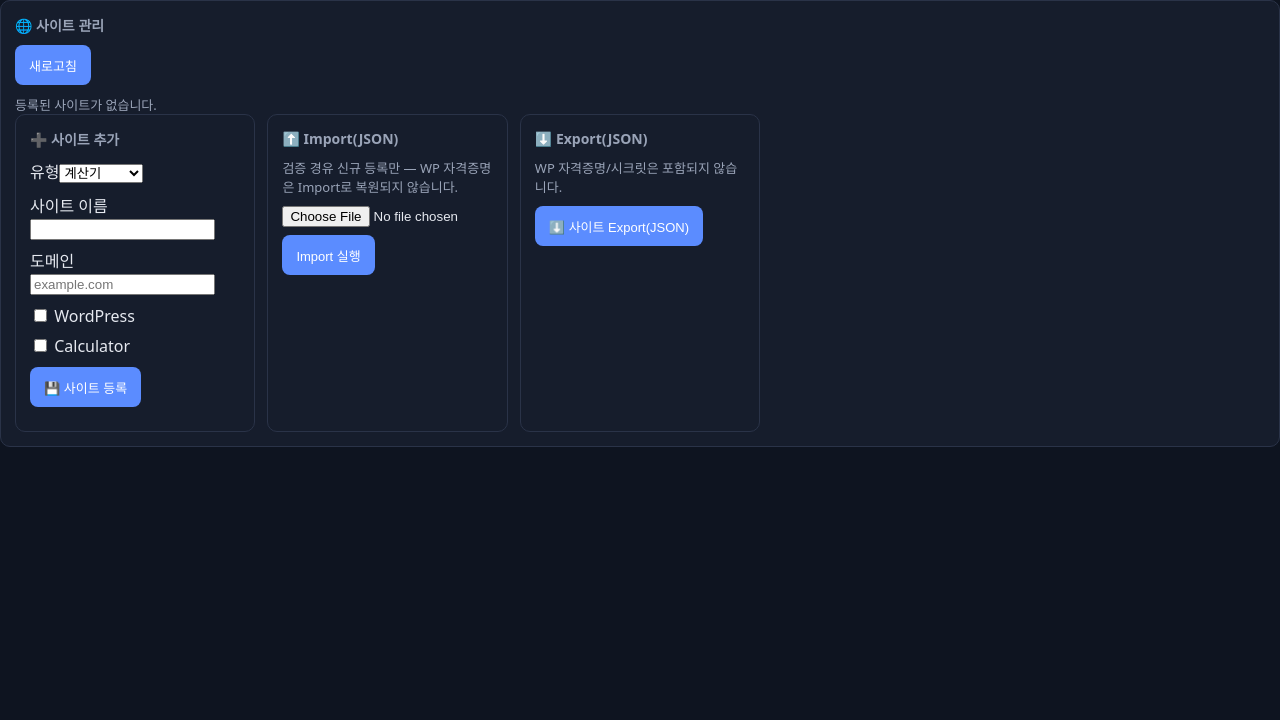
Scenario: Site Create form (STEP P2-06) › never displays the entered WordPress password back to the user after submit
Click the checkbox labelled "WordPress" at {"x": 40, "y": 316}, box [34,309,47,322]
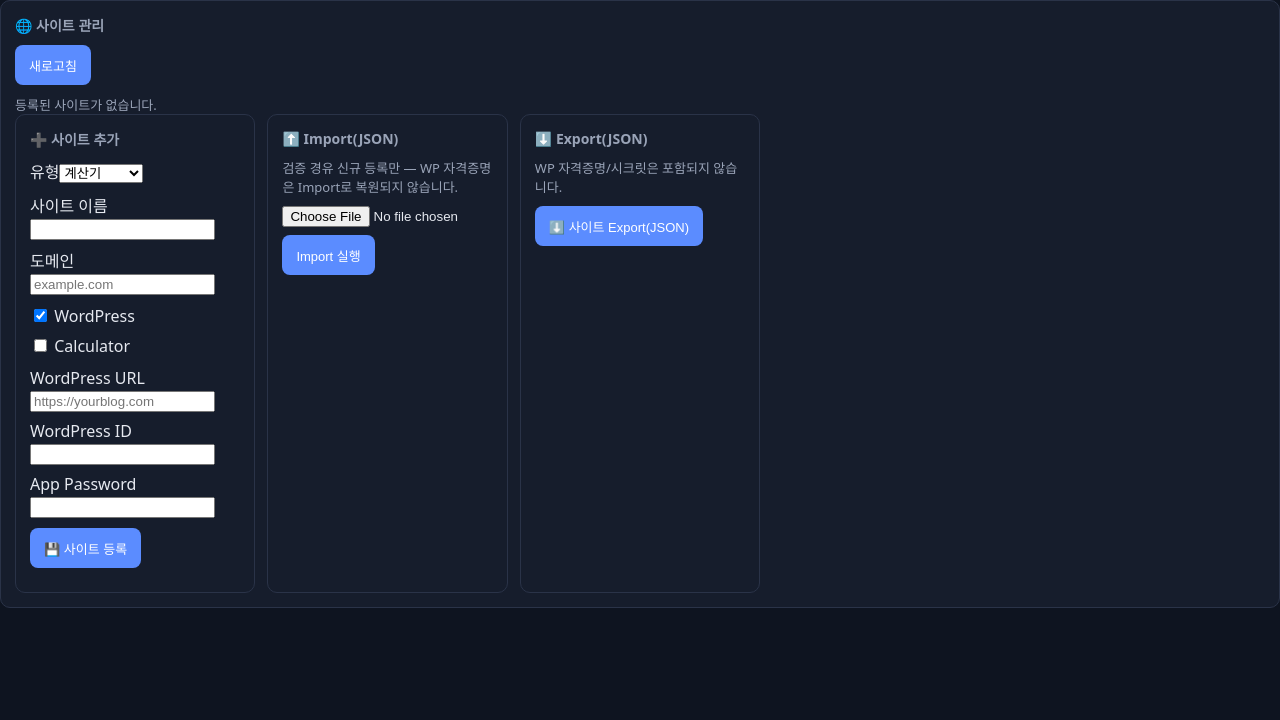
Type "wp사이트" into the field labelled "사이트 이름" at {"x": 122, "y": 230}, box [30,219,215,240]
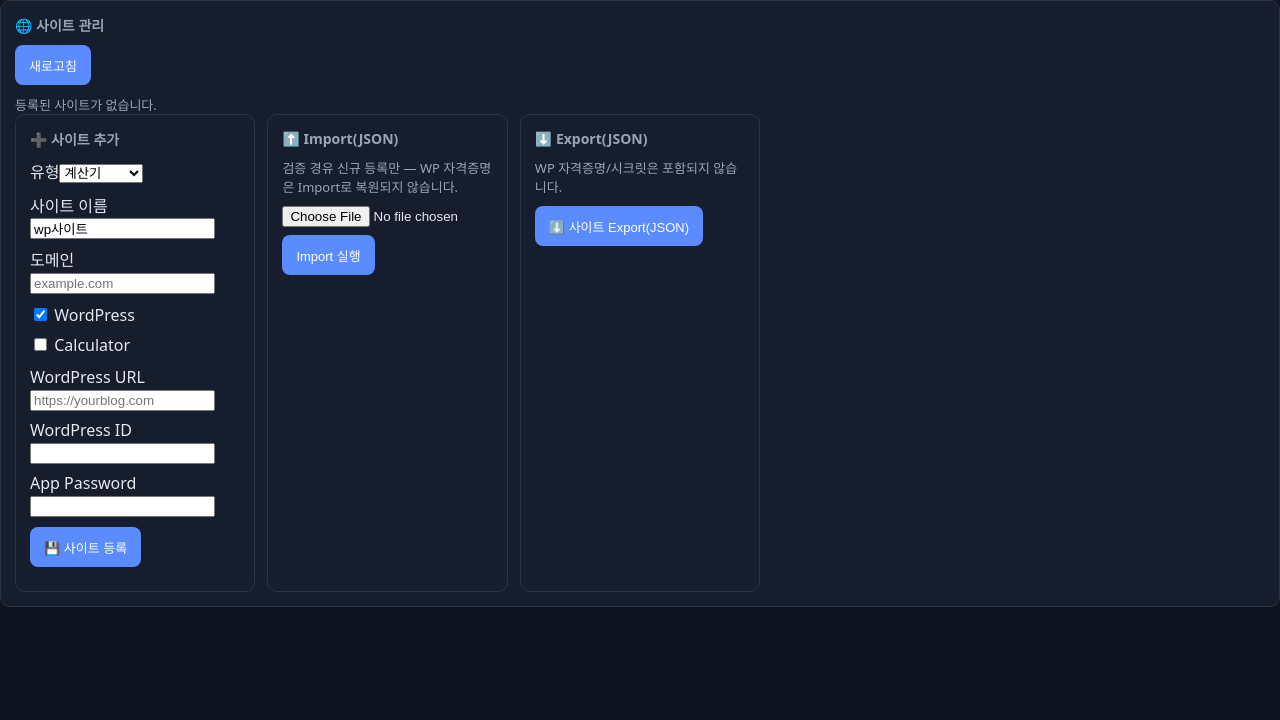
Type "wp.example.com" into the field labelled "도메인" at {"x": 122, "y": 284}, box [30,273,215,294]
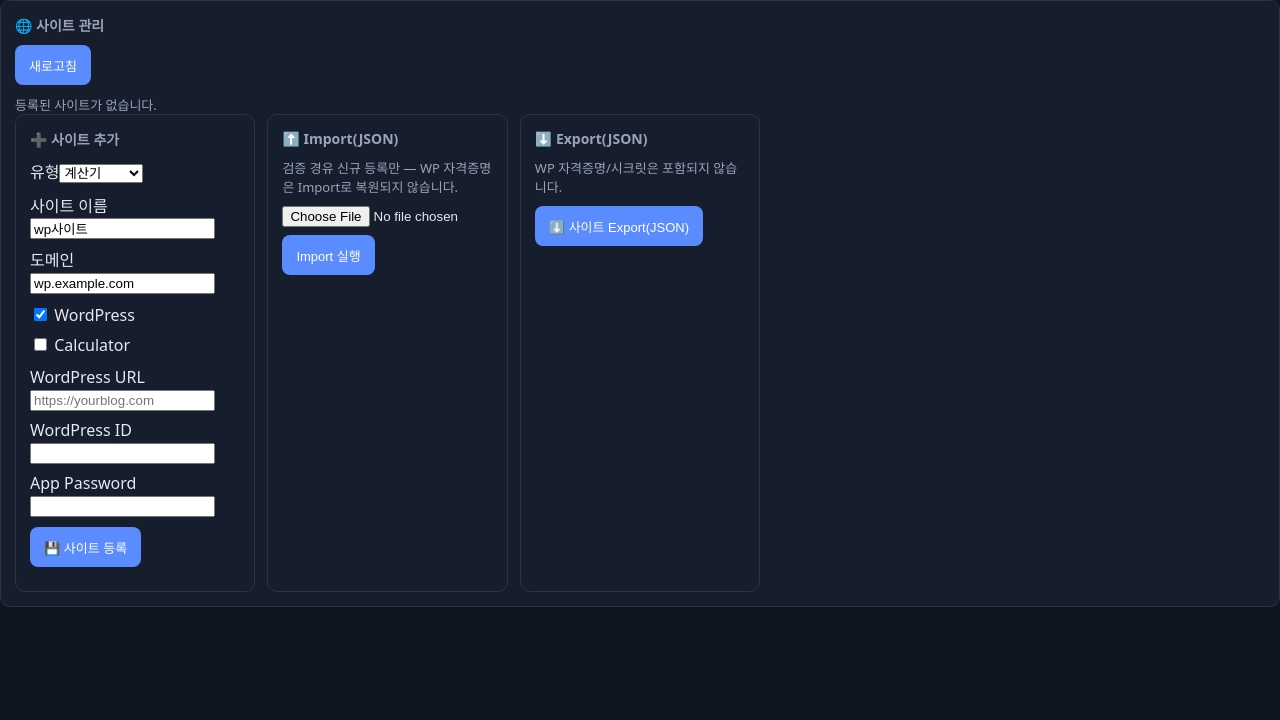
Type "my-secret-pw-123" into the password field labelled "App Password" at {"x": 122, "y": 506}, box [30,496,215,517]
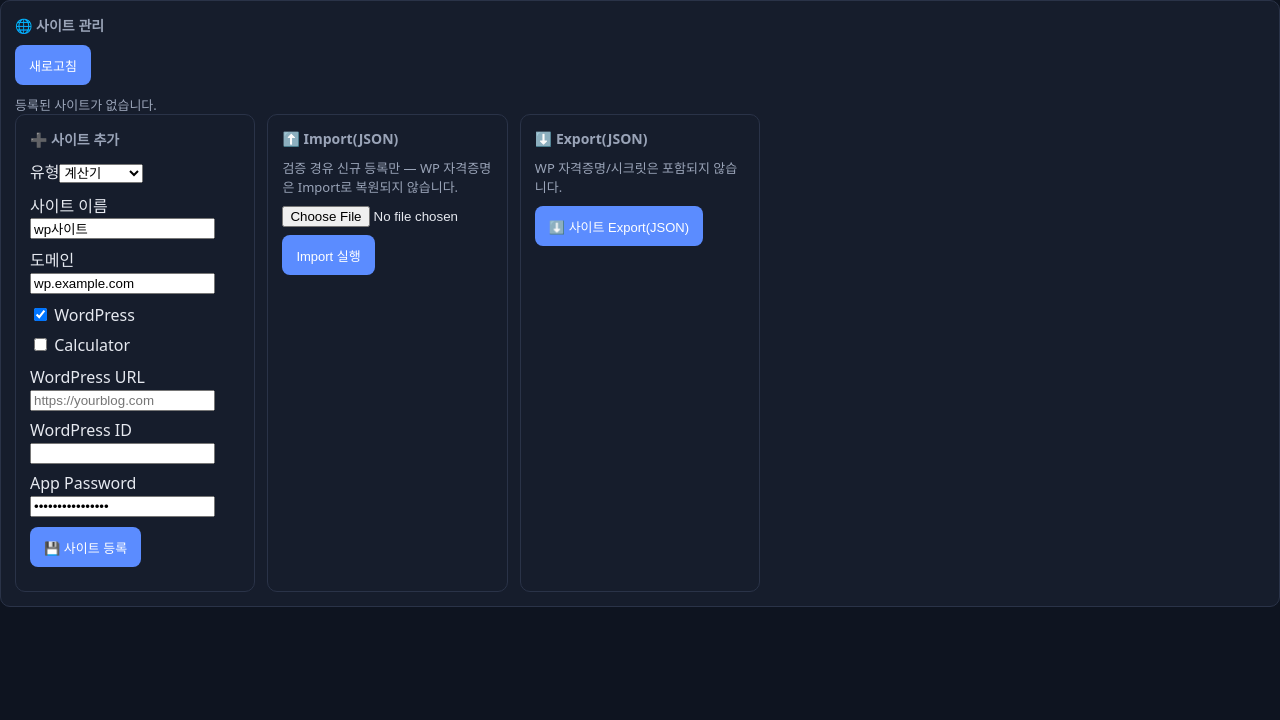
Click the button "💾 사이트 등록" at {"x": 86, "y": 547}, box [30,527,141,567]
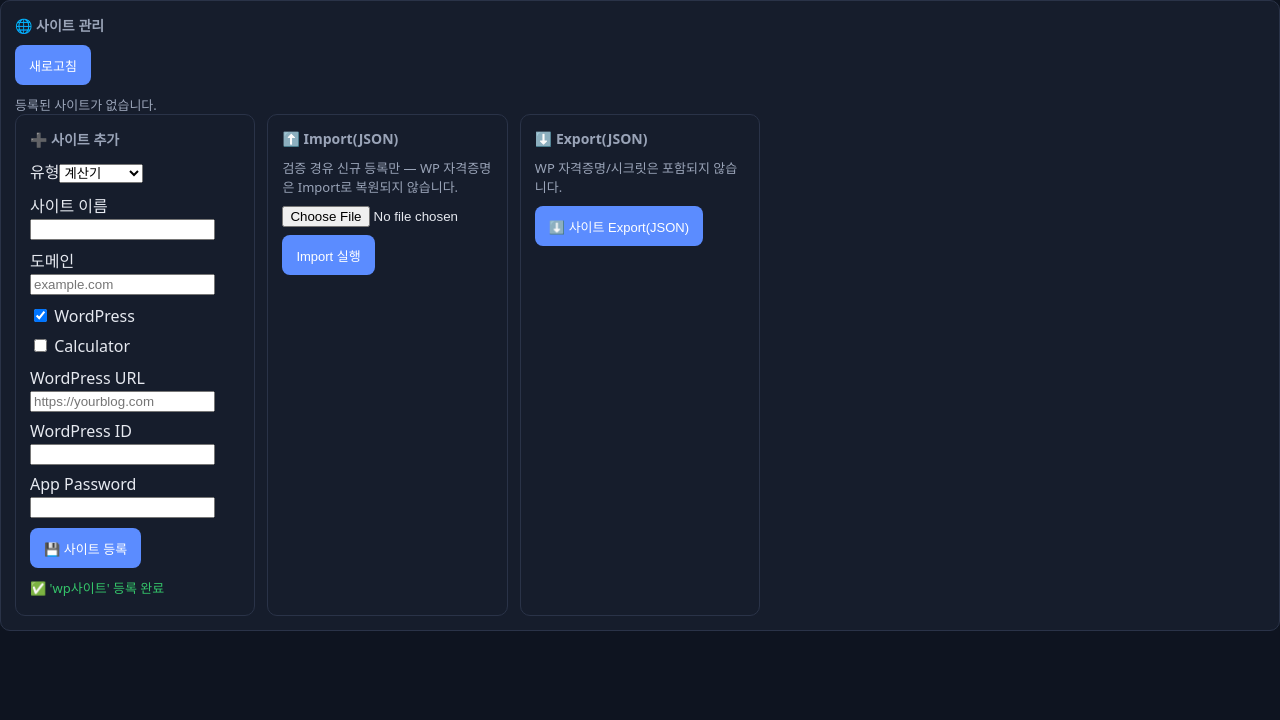
expect the text "✅ 'wp사이트' 등록 완료" is shown: met, box [30,579,164,597]
expect the password field labelled "App Password" is empty: met, box [30,497,215,518]
